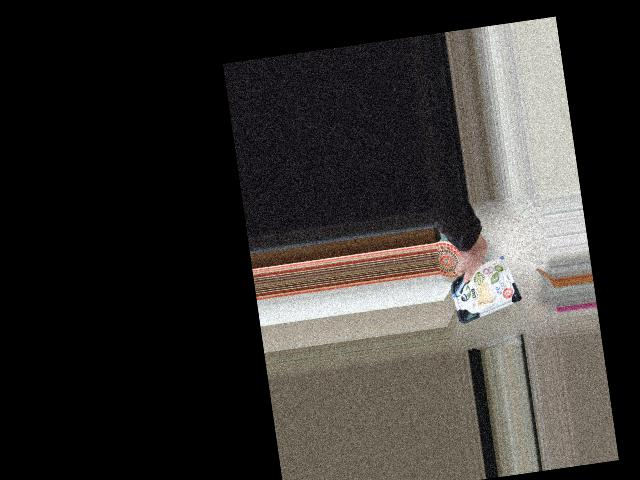cheese: (446, 254, 520, 325)
